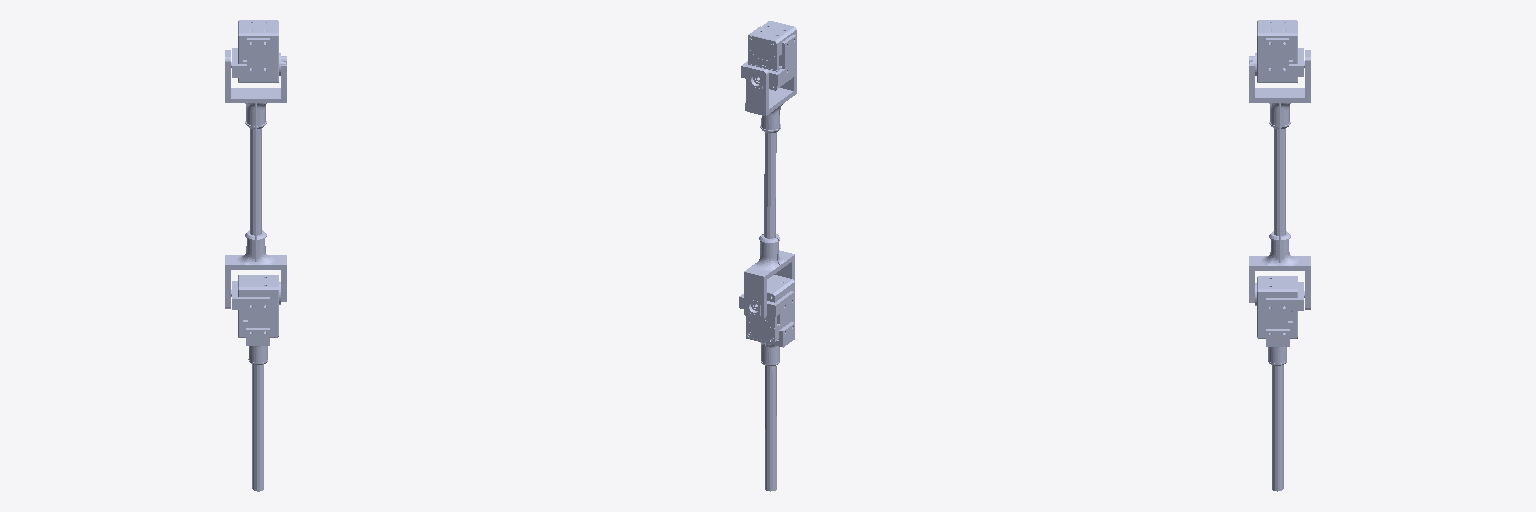
URDF robot description (Arm):
<?xml version="1.0" encoding="utf-8"?>
<!-- This URDF was automatically created by SolidWorks to URDF Exporter! Originally created by Stephen Brawner (brawner@gmail.com) 
     Commit Version: 1.6.0-4-g7f85cfe  Build Version: 1.6.7995.38578
     For more information, please see http://wiki.ros.org/sw_urdf_exporter -->
<robot
  name="Arm">
  <link
    name="base_link">
    <inertial>
      <origin
        xyz="0 0 -1"
        rpy="0 0 0" />
      <mass
        value="0.08" />
      <inertia
        ixx="1.2988E-05"
        ixy="-2.8598E-14"
        ixz="2.3385E-17"
        iyy="9.0006E-06"
        iyz="-1.4322E-07"
        izz="1.263E-05" />
    </inertial>
    <visual>
      <origin
        xyz="0 0 0"
        rpy="0 0 0" />
      <geometry>
        <mesh
          filename="../meshes/base_link.STL" />
      </geometry>
      <material
        name="">
        <color
          rgba="0.79216 0.81961 0.93333 1" />
      </material>
    </visual>
    <collision>
      <origin
        xyz="0 0 0"
        rpy="0 0 0" />
      <geometry>
        <mesh
          filename="../meshes/base_link.STL" />
      </geometry>
    </collision>
  </link>
  <link
    name="Link1">
    <inertial>
      <origin
        xyz="-0.049919 -0.10242 -0.0083909"
        rpy="0 0 0" />
      <mass
        value="0.05" />
      <inertia
        ixx="1.4554E-05"
        ixy="-4.0614E-07"
        ixz="4.2464E-07"
        iyy="9.6663E-06"
        iyz="-1.3744E-06"
        izz="2.1973E-05" />
    </inertial>
    <visual>
      <origin
        xyz="0 0 0"
        rpy="0 0 0" />
      <geometry>
        <mesh
          filename="../meshes/Link1.STL" />
      </geometry>
      <material
        name="">
        <color
          rgba="0.79216 0.81961 0.93333 1" />
      </material>
    </visual>
    <collision>
      <origin
        xyz="0 0 0"
        rpy="0 0 0" />
      <geometry>
        <mesh
          filename="../meshes/Link1.STL" />
      </geometry>
    </collision>
  </link>
  <joint
    name="Servo1"
    type="continuous">
    <origin
      xyz="0.017875 -0.45598 -0.03525"
      rpy="1.454 -0.071221 1.5099" />
    <parent
      link="base_link" />
    <child
      link="Link1" />
    <axis
      xyz="0.99562 -0.063458 -0.068705" />
  </joint>
  <link
    name="Link2">
    <inertial>
      <origin
        xyz="-0.024424 0.023266 0.0028645"
        rpy="0 0 0" />
      <mass
        value="0.15" />
      <inertia
        ixx="1.9036E-05"
        ixy="-8.9651E-07"
        ixz="-3.1231E-08"
        iyy="9.108E-06"
        iyz="-4.9489E-07"
        izz="1.9277E-05" />
    </inertial>
    <visual>
      <origin
        xyz="0 0 0"
        rpy="0 0 0" />
      <geometry>
        <mesh
          filename="../meshes/Link2.STL" />
      </geometry>
      <material
        name="">
        <color
          rgba="0.79216 0.81961 0.93333 1" />
      </material>
    </visual>
    <collision>
      <origin
        xyz="0 0 0"
        rpy="0 0 0" />
      <geometry>
        <mesh
          filename="../meshes/Link2.STL" />
      </geometry>
    </collision>
  </link>
  <joint
    name="Servo2"
    type="continuous">
    <origin
      xyz="-0.034252 -0.20903 -0.021308"
      rpy="-3.0799 0.14156 -0.12292" />
    <parent
      link="Link1" />
    <child
      link="Link2" />
    <axis
      xyz="0.99562 -0.063458 -0.068705" />
  </joint>
</robot>

--- What the picture shows (computed from the rendered views, not written in the file) ---
The picture shows the robot from 3 angles, left to right: view 1: azimuth 90°, elevation 25°; view 2: azimuth 150°, elevation 25°; view 3: azimuth 270°, elevation 25°; orthographic projection.
Robot: Arm — 3 links, 2 joints (2 continuous); root link base_link; default pose: every joint at zero.
Visible links, largest first — view 1: Link1, Link2, base_link; view 2: Link1, Link2, base_link; view 3: Link1, Link2, base_link.
Boxes of the visible links, box(x1,y1,x2,y2) form: Link1: box(225, 50, 286, 308); Link2: box(231, 275, 280, 491); base_link: box(231, 20, 285, 82); Link1: box(744, 65, 796, 320); Link2: box(739, 275, 794, 491); base_link: box(741, 21, 796, 90); Link1: box(1249, 50, 1310, 309); Link2: box(1255, 276, 1304, 491); base_link: box(1250, 20, 1304, 82).
Size in the robot's own frame: 0.0381 by 0.052 by 0.4278 metres.
Meshes: 3 distinct files referenced, 3 mesh visuals loaded (3 binary STL).
